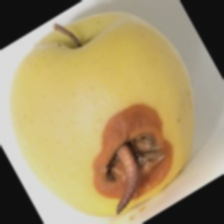apple: (59, 9, 207, 171)
